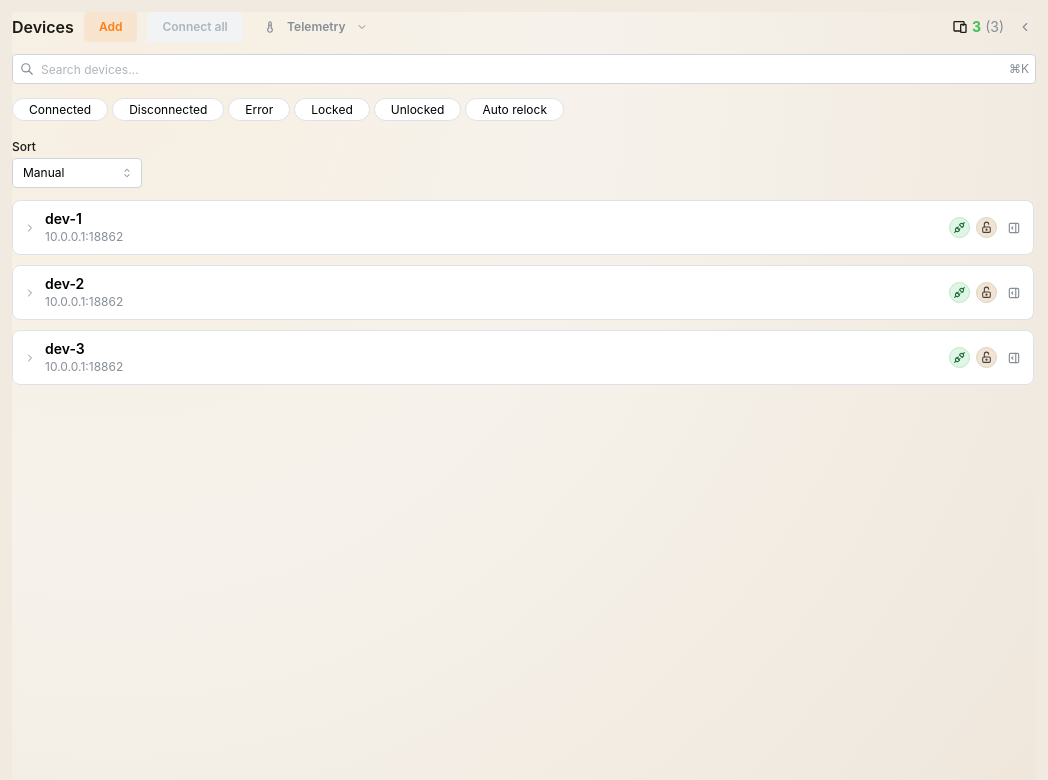
Test: DeviceList fleet telemetry menu › counts the boards a start would actually act on
Click the button titled "Red Pitaya telemetry actions for every device" at (315, 27), box [253,12,378,42]
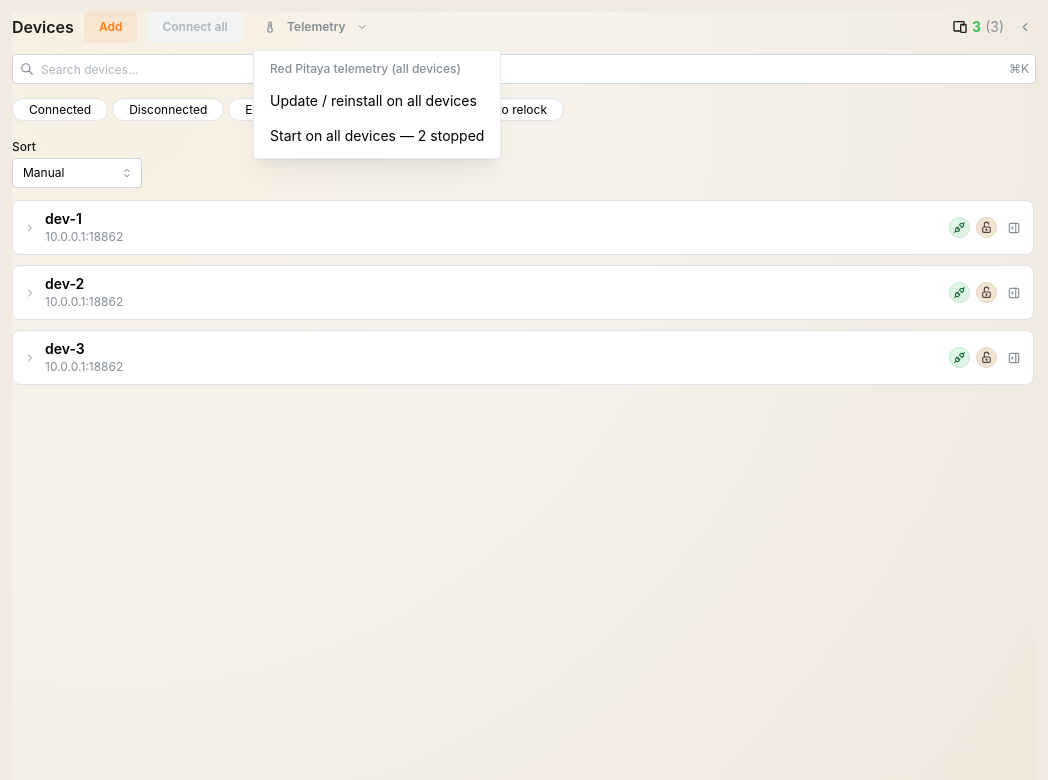
Now the text "Start on all devices — 2 stopped" is shown, box [270,125,484,147]
